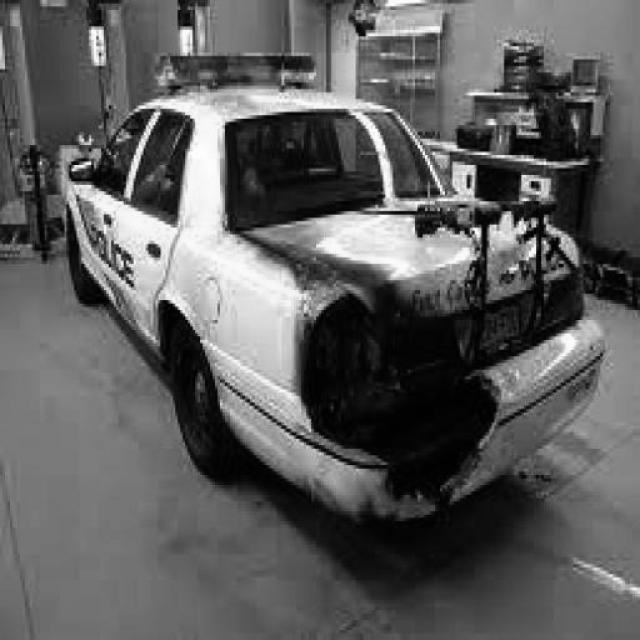car damage: (219, 219, 520, 518)
